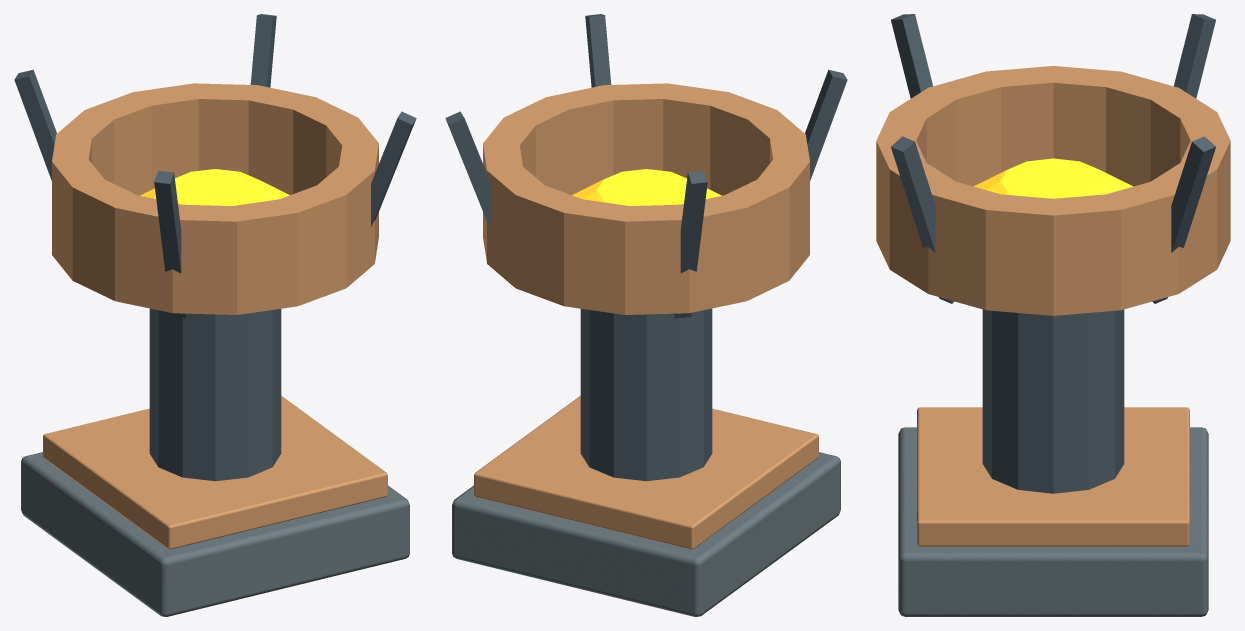
Rendered from dwarven-runeforge-dungeon-dwarven-runeforge-dungeon-he-e8a1bd3b__28614.glb.
The picture shows the model from 3 angles, left to right: view 1: azimuth 30°, elevation 25°; view 2: azimuth 150°, elevation 25°; view 3: azimuth 270°, elevation 25°; orthographic projection. The views are drawn at different scales.
Visible parts, largest first — view 1: dwarven-runeforge-dungeon-heat-brazier; view 2: dwarven-runeforge-dungeon-heat-brazier; view 3: dwarven-runeforge-dungeon-heat-brazier.
Part boxes in pixels (x1=…): dwarven-runeforge-dungeon-heat-brazier: x1=14, y1=14, x2=416, y2=616; dwarven-runeforge-dungeon-heat-brazier: x1=445, y1=14, x2=847, y2=616; dwarven-runeforge-dungeon-heat-brazier: x1=876, y1=14, x2=1230, y2=616.
Bounding box in the file's own units: 0.8 × 1.19 × 0.8.
Materials: 4 (1 with a texture image).
